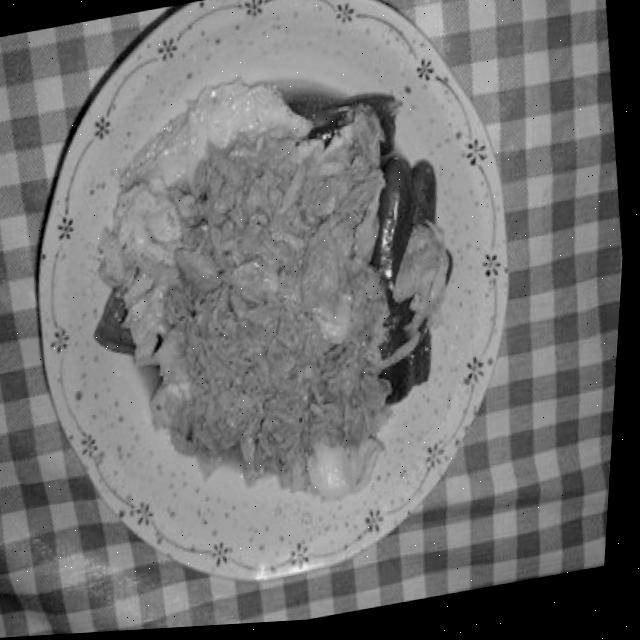蔬菜料理: (44, 49, 484, 555)
